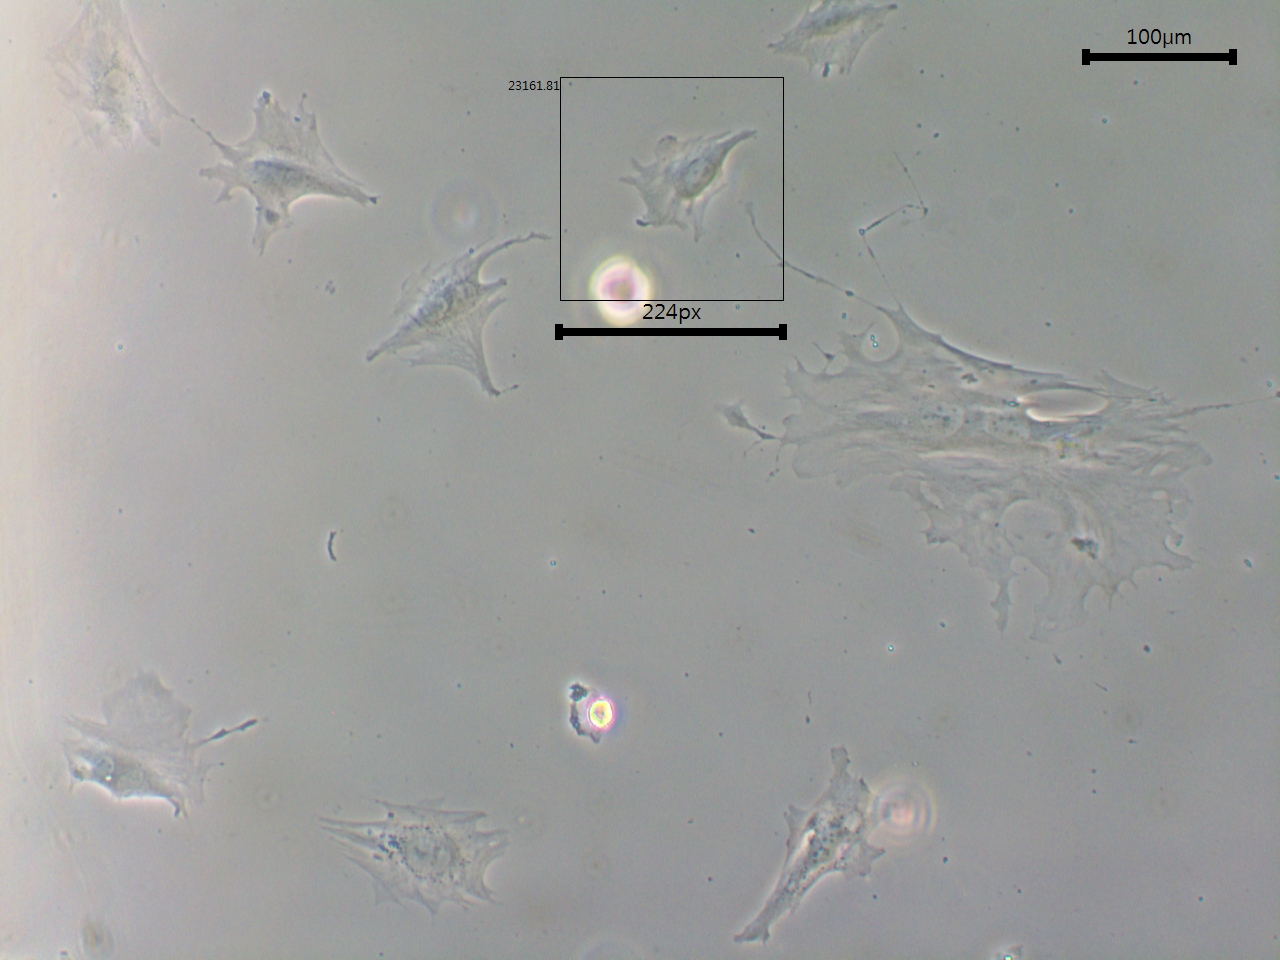dividing: (793, 308, 1206, 633), (348, 223, 546, 409)
medium-polygonal: (766, 2, 914, 69)
medium-spread: (723, 729, 914, 954), (49, 661, 268, 825), (179, 88, 389, 255), (305, 790, 534, 932), (606, 115, 761, 246)
